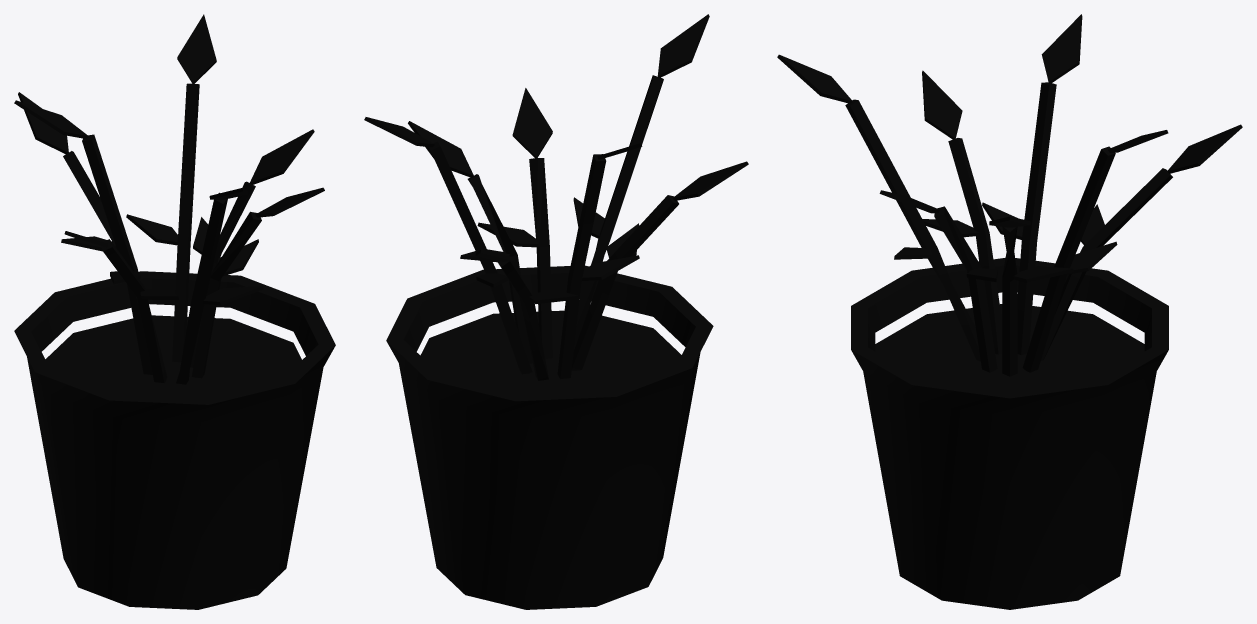
Rendered from herb_pot.glb.
3 views of the same model, side by side, from view 1: azimuth 30°, elevation 25°; view 2: azimuth 150°, elevation 25°; view 3: azimuth 270°, elevation 25° (orthographic). The views are drawn at different scales.
Parts seen in each view (by area): view 1: herb_pot; view 2: herb_pot; view 3: herb_pot.
Boxes of the visible parts, bbox=[...] form: herb_pot: bbox=[14, 14, 335, 609]; herb_pot: bbox=[364, 14, 748, 609]; herb_pot: bbox=[777, 14, 1242, 609].
Bounding box in the file's own units: 0.136 × 0.2076 × 0.181.
